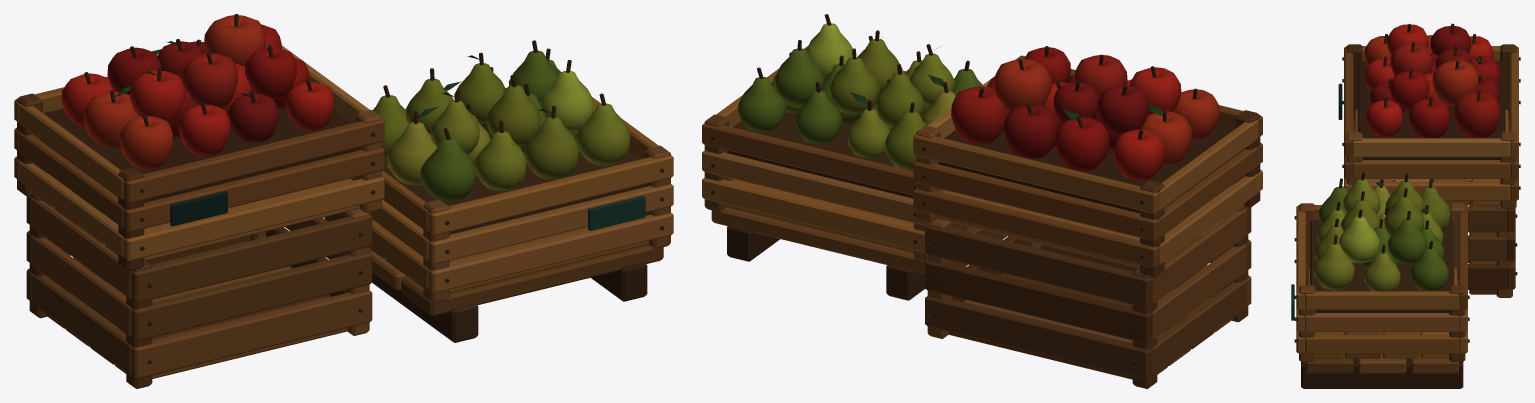
The model's file is SM_OrchardDisplayCrates.fbx.
The picture shows the model from 3 angles, left to right: view 1: azimuth 30°, elevation 25°; view 2: azimuth 150°, elevation 25°; view 3: azimuth 270°, elevation 25°; orthographic projection. The views are drawn at different scales.
Parts seen in each view (by area): view 1: SM_OrchardDisplayCrates; view 2: SM_OrchardDisplayCrates; view 3: SM_OrchardDisplayCrates.
Boxes of the visible parts, left/top/right/bottom form: SM_OrchardDisplayCrates: left=14, top=14, right=673, bottom=388; SM_OrchardDisplayCrates: left=702, top=14, right=1262, bottom=388; SM_OrchardDisplayCrates: left=1291, top=23, right=1520, bottom=388.
Size of what is drawn, in the model's own units: 128 by 65.1 by 67.12.
